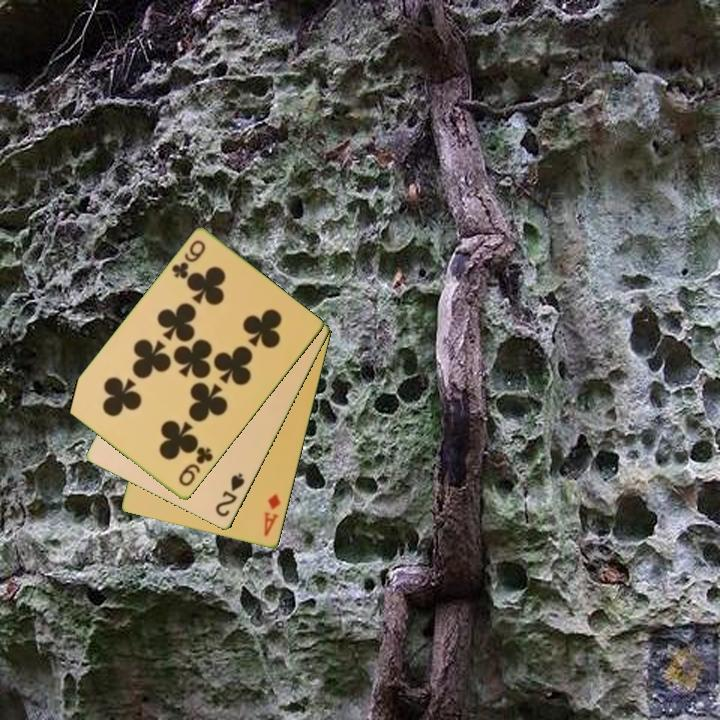2s: (212, 470, 248, 520)
9c: (175, 443, 216, 490), (168, 236, 209, 282)
Ad: (260, 491, 284, 540)
